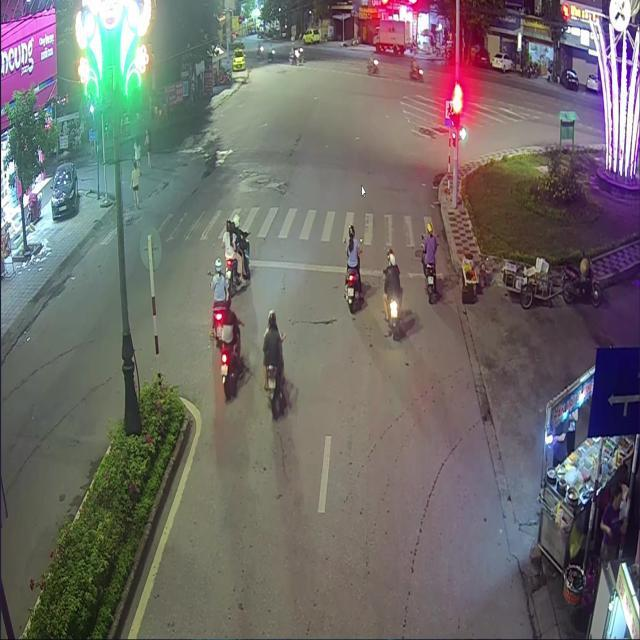motobike: (262, 309, 285, 417), (221, 219, 250, 294), (210, 257, 230, 349), (382, 247, 402, 337), (420, 222, 441, 306), (344, 224, 361, 311)
red_light: (452, 77, 461, 130)
stop_line: (228, 256, 440, 277)
